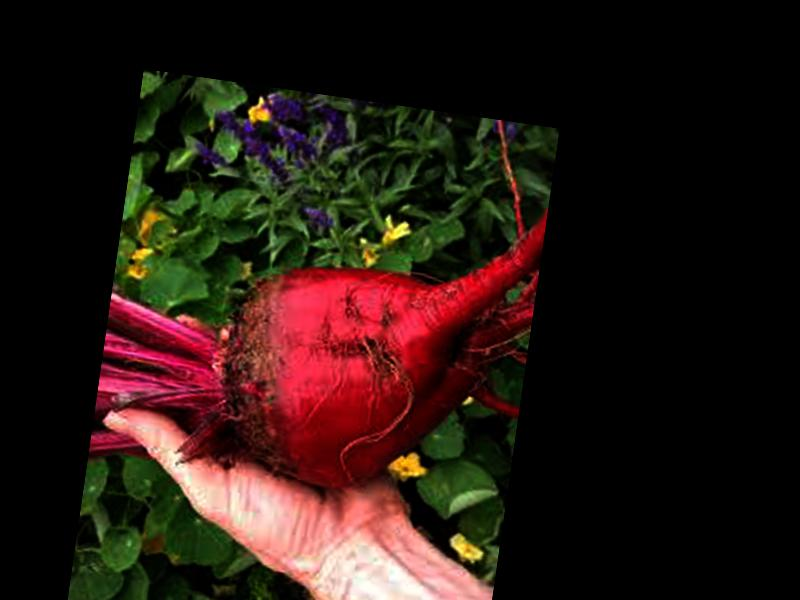Beet: (91, 157, 547, 513)
